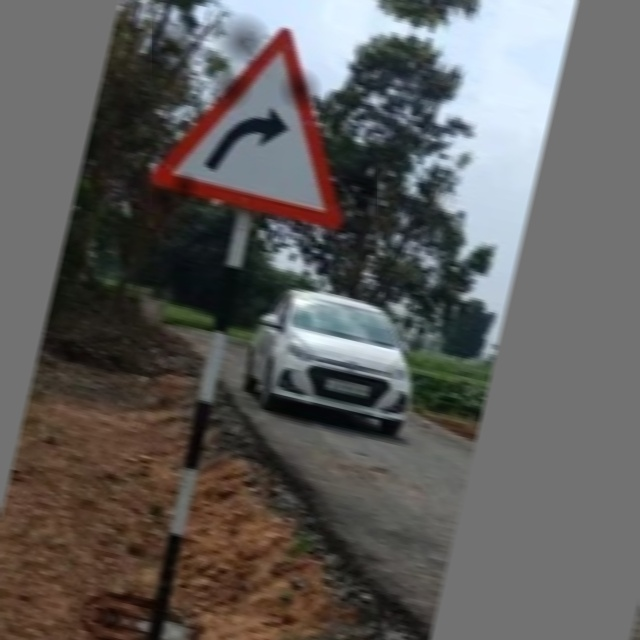Right_Hand_Curve: (152, 8, 377, 227)
